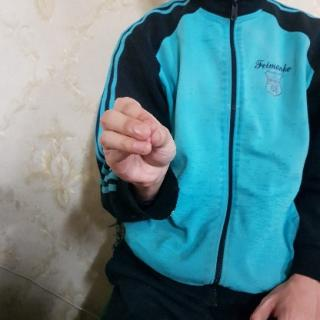HA: (93, 91, 181, 192)
